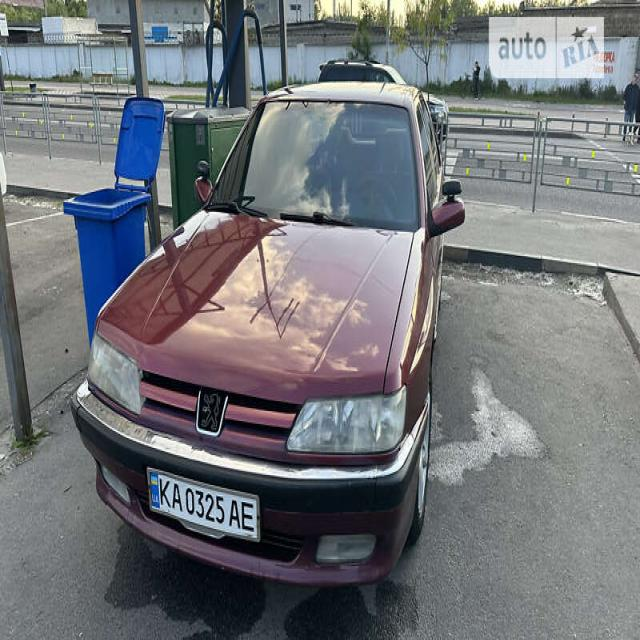plate: (145, 464, 265, 558)
